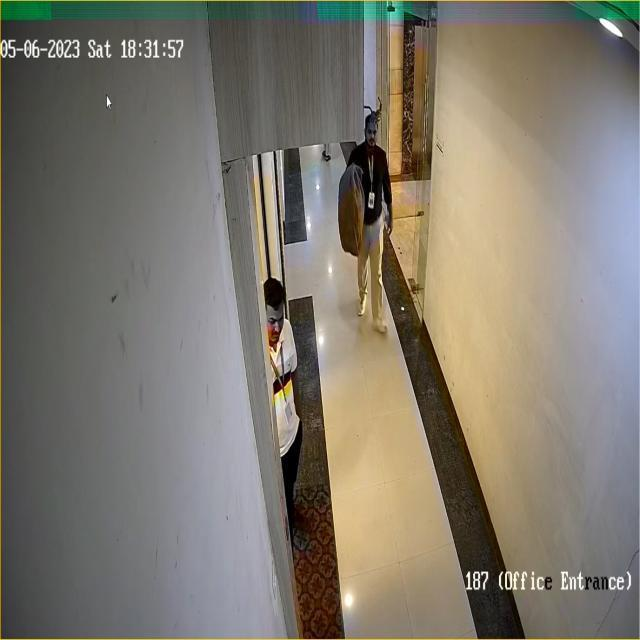gunny_bag: (336, 165, 368, 258)
